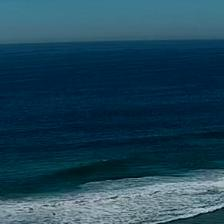surfer: (53, 212, 56, 216), (178, 161, 181, 164), (201, 160, 204, 162), (189, 167, 191, 170)
